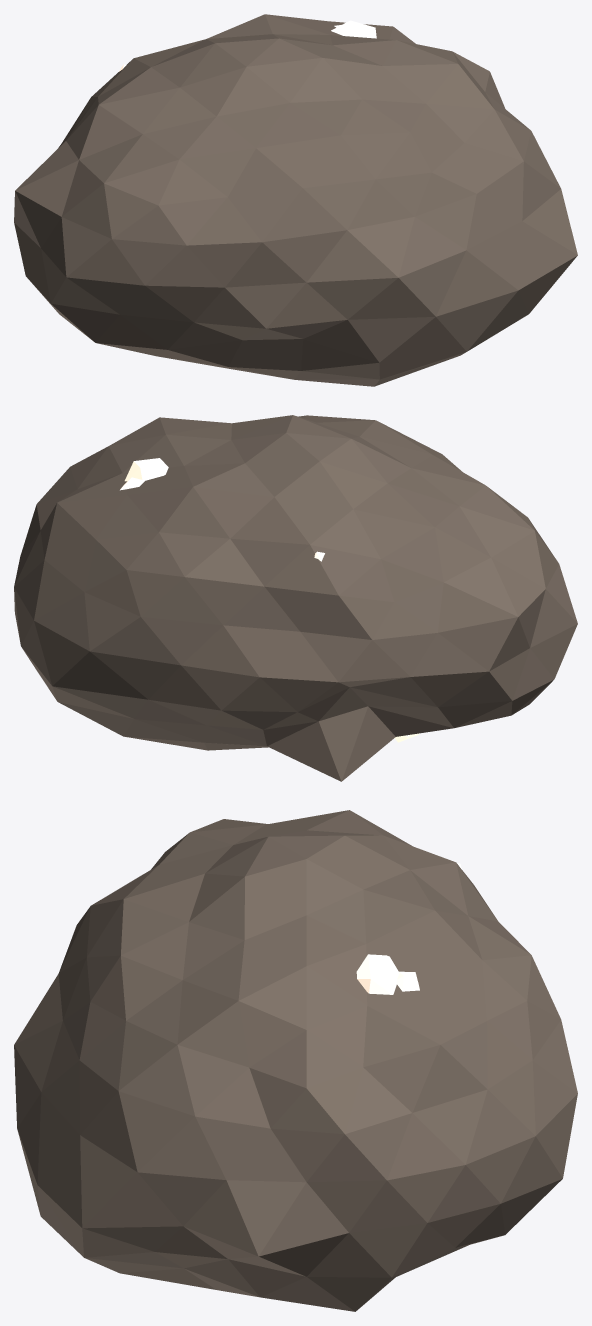
The model's file is asteroid_3.glb.
3 renders of one model, top to bottom at view 1: azimuth 30°, elevation 25°; view 2: azimuth 150°, elevation 25°; view 3: azimuth 270°, elevation 25°, orthographic. The views are drawn at different scales.
Visible parts, largest first — view 1: Body, Vein2; view 2: Body, Vein2; view 3: Body, Vein2.
Part boxes in pixels (bbox=[...]): Body: bbox=[14, 14, 577, 386]; Vein2: bbox=[331, 20, 376, 38]; Body: bbox=[14, 415, 577, 781]; Vein2: bbox=[124, 458, 168, 481]; Body: bbox=[14, 810, 577, 1311]; Vein2: bbox=[356, 954, 399, 994].
Size of the model in its own units: 2.83 by 1.71 by 2.23.
